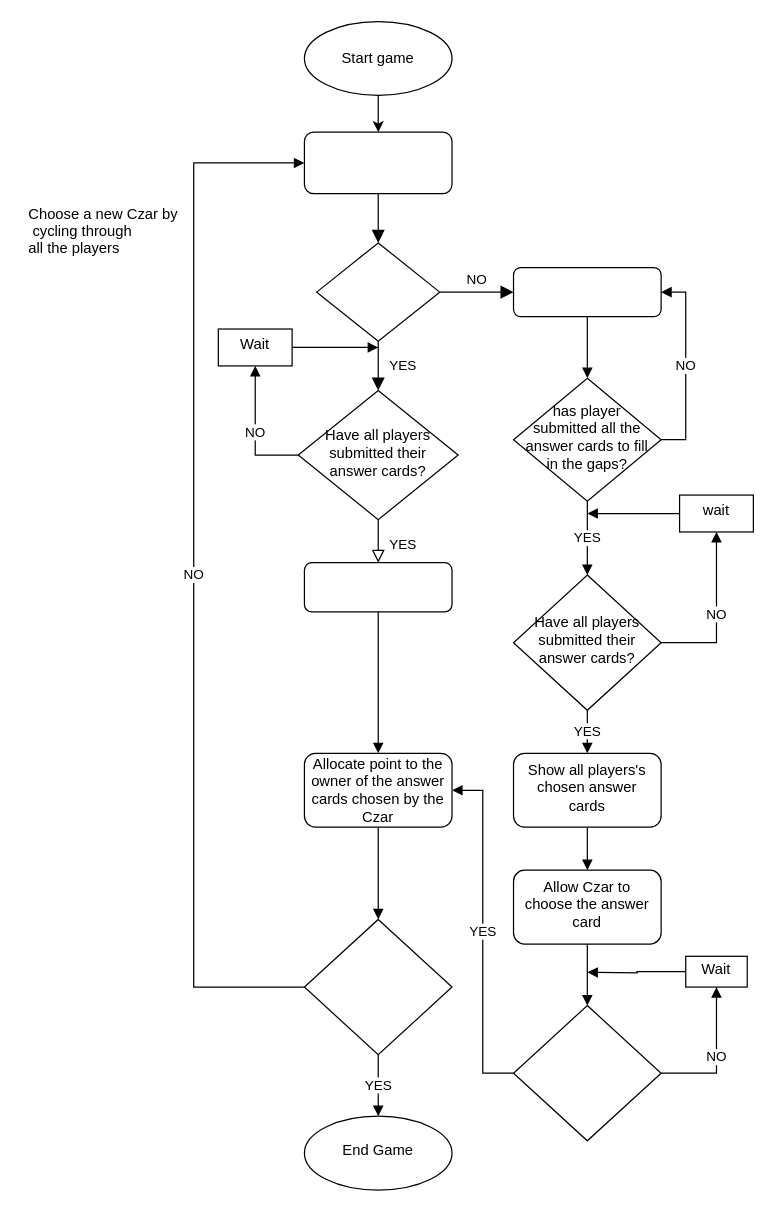
Image size: 775x1212. Some labels were removed from this diagram. Each missing label, with the centre of its shape:
"Allow user to choose an answer card" belongs at point (586, 291).
"Allow user to choose the answer cards" belongs at point (377, 586).
"Does the point winner have enough points to win?" belongs at point (377, 986).
"Give answer cards until player has 7 answer cards" belongs at point (377, 162).
"Has the Czar chosen an answer card" belongs at point (586, 1072).
"Is user the Czar?" belongs at point (377, 291).
